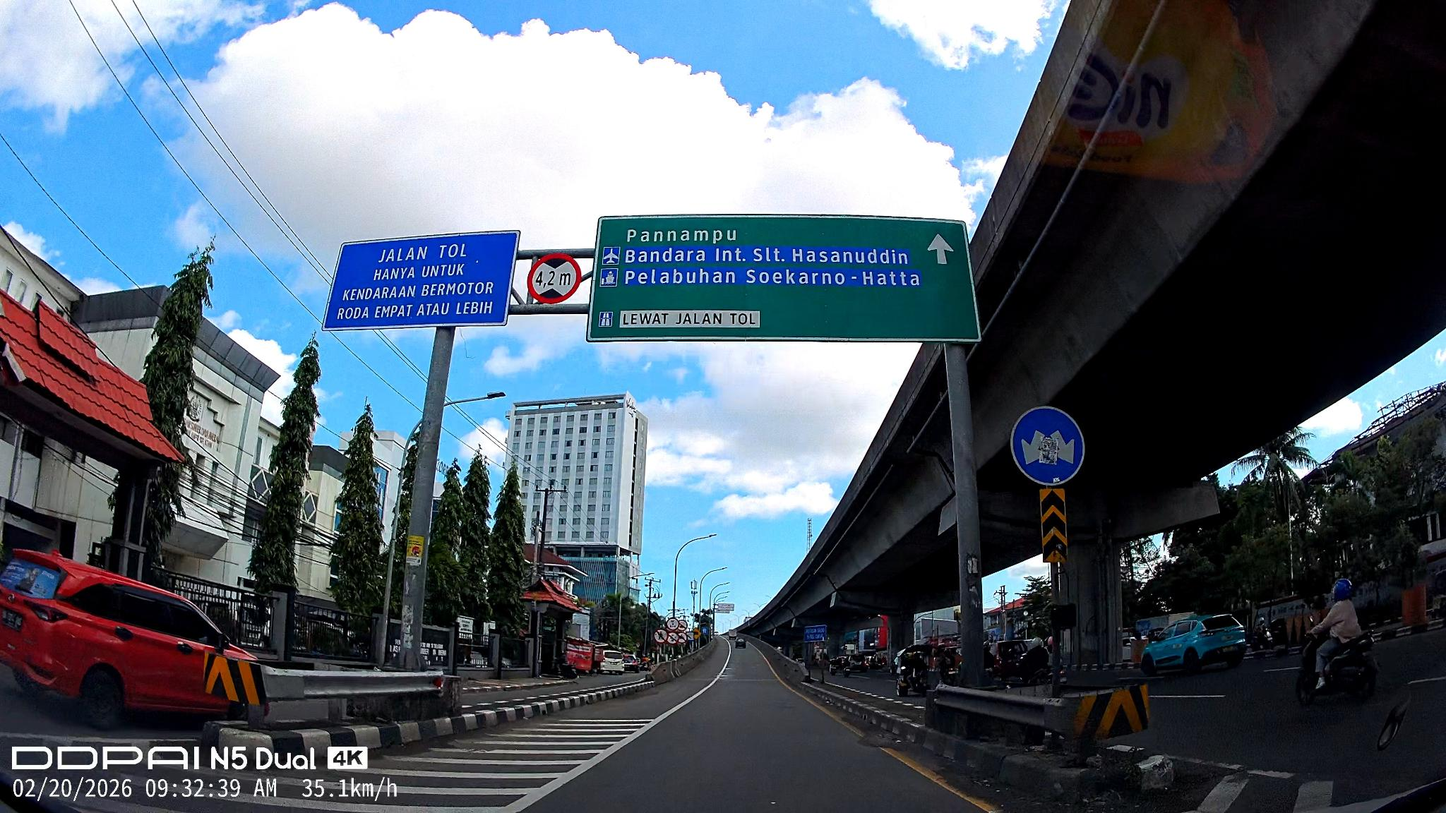rambu_teks: (586, 212, 981, 345), (321, 229, 521, 328)
